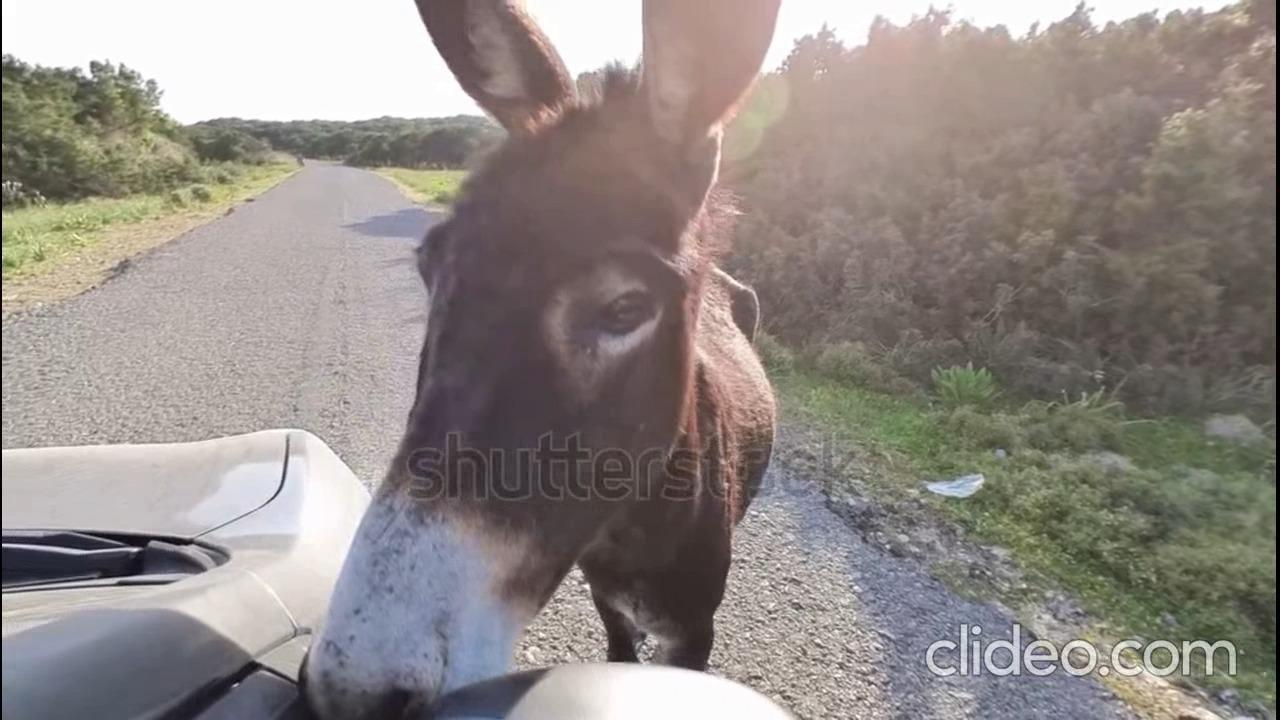Donkey: (287, 0, 786, 720)
